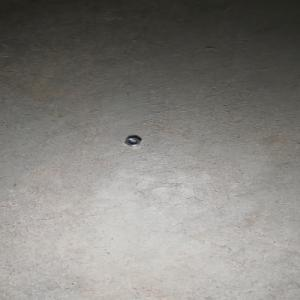Nut: (123, 136, 140, 147)
